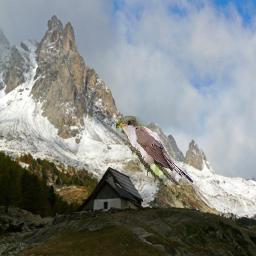Cuckoo: (117, 117, 194, 186)
